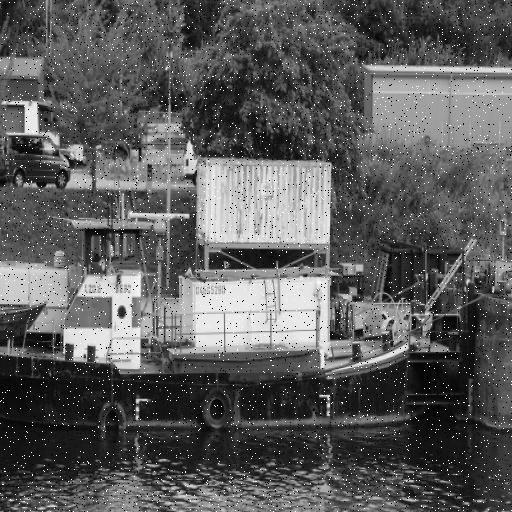tugboat: (1, 205, 432, 449)
